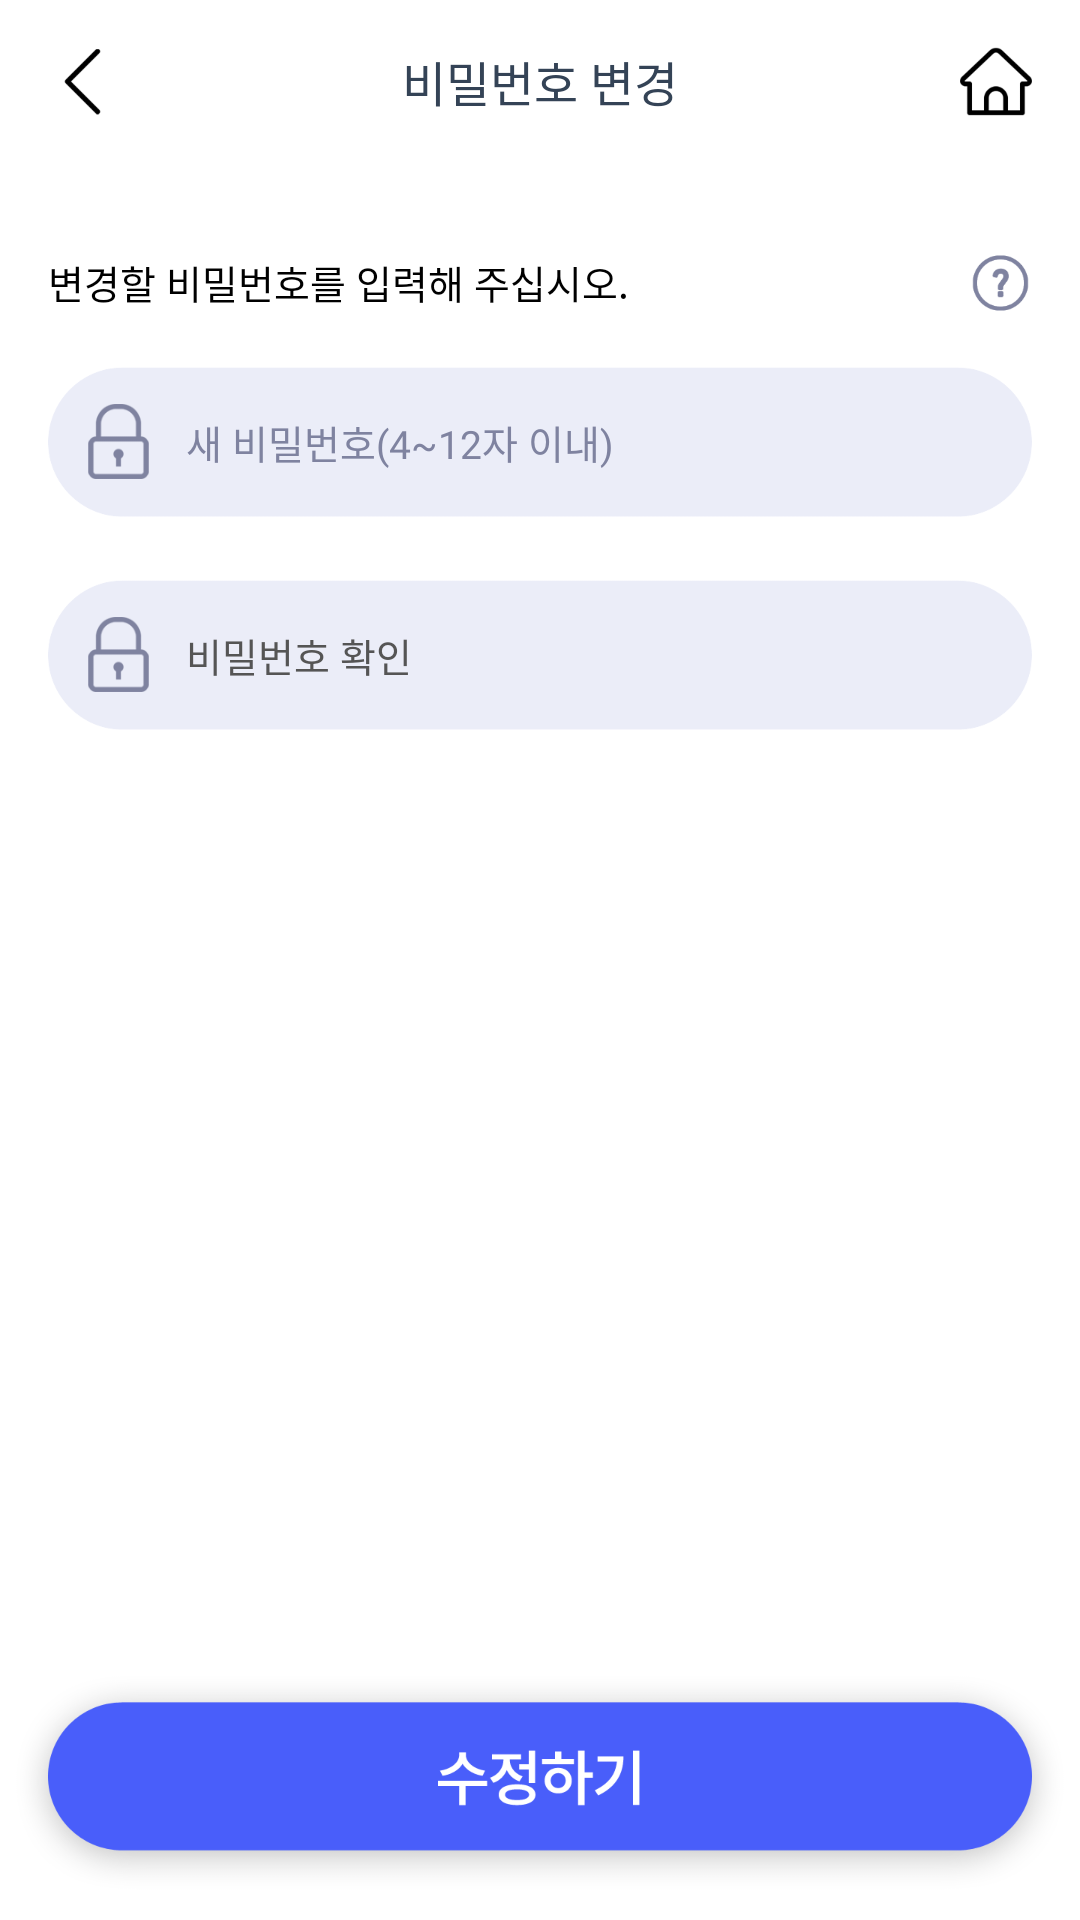

Icon bounding boxes for this 1080×1920 phone screenshot, format [x1, y1, x2, y2]:
help: [973, 255, 1028, 311]
lock: [88, 404, 149, 479], [88, 617, 149, 692]
top back: [64, 49, 101, 115]
top home: [960, 47, 1032, 116]
